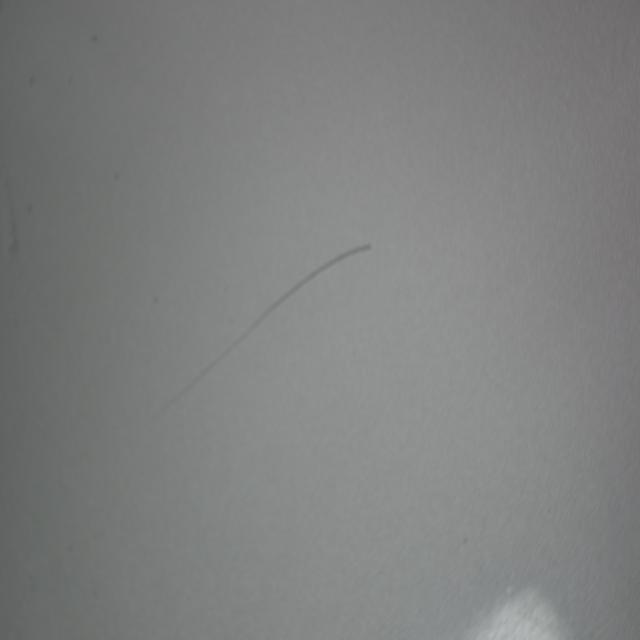dirt: (64, 73, 76, 91), (111, 163, 120, 186), (27, 72, 38, 89), (21, 201, 32, 217), (90, 29, 98, 46), (150, 292, 158, 308)
runs: (1, 162, 18, 254)
scratch: (158, 240, 376, 418)
